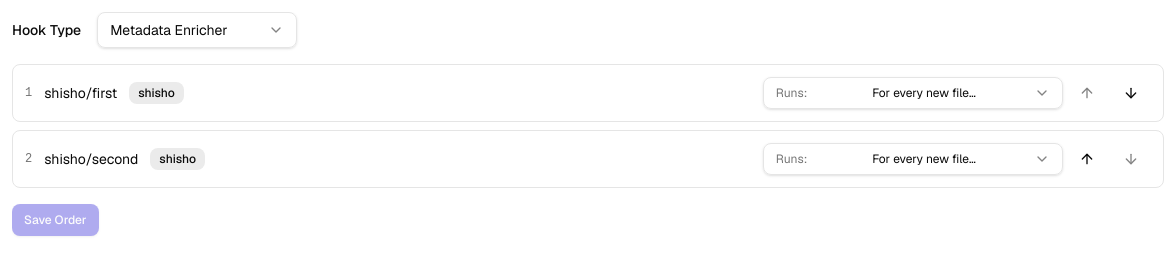
AdvancedOrderSection save › names the move buttons and enables Save Order after a move
Expected: the number of buttons named "Move plugin up" is 2, [1067,77,1107,109]; [1067,143,1107,175]
Expected: the button named "Move plugin up" in the row of "shisho/first" is disabled, [1067,77,1107,109]
Click the button named "Move plugin down" in the row of "shisho/first" at x=1131, y=93, box [1111,77,1151,109]
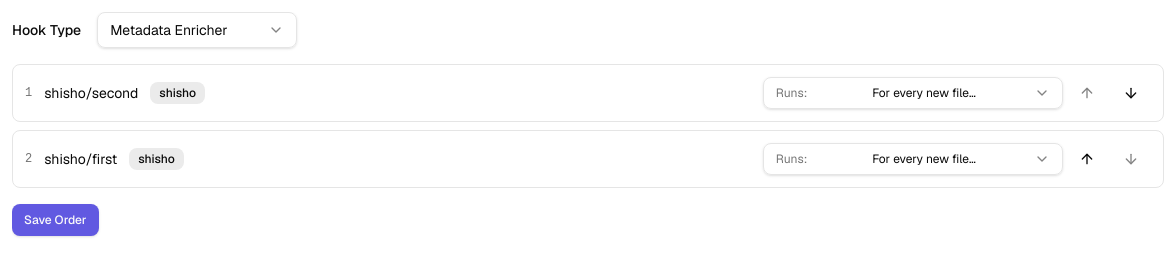
Expected: the button "Save Order" is enabled, [12,204,99,236]
